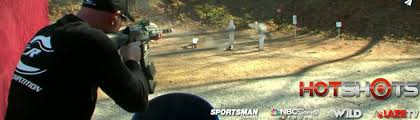Gun: (129, 17, 178, 50)
